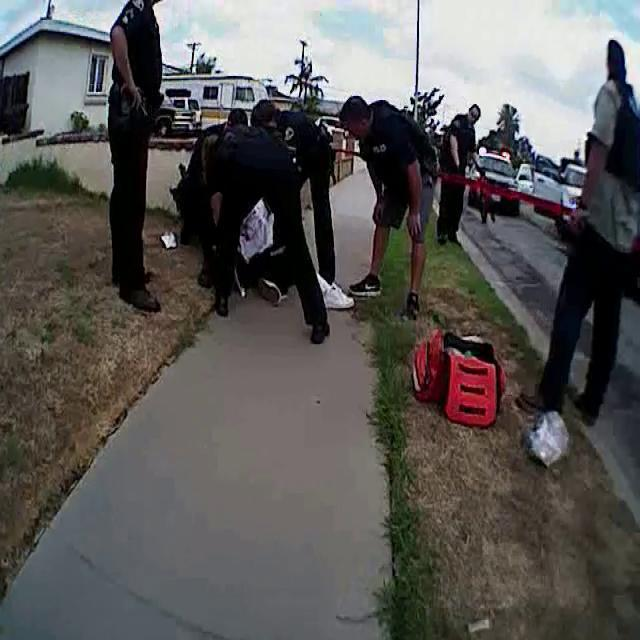gun: (170, 157, 193, 205)
